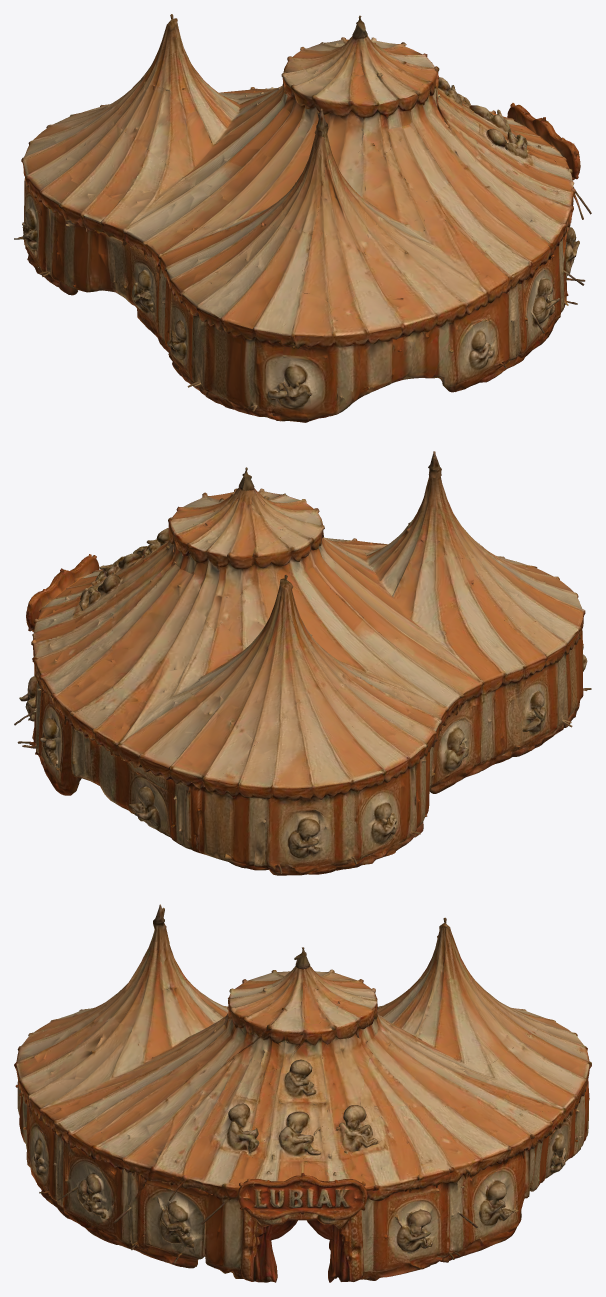
Rendered from circus.glb.
The picture shows the model from 3 angles, top to bottom: view 1: azimuth 30°, elevation 25°; view 2: azimuth 150°, elevation 25°; view 3: azimuth 270°, elevation 25°; orthographic projection. The views are drawn at different scales.
Visible parts, largest first — view 1: tripo_node_0bd29e1e-1604-4fbb-8d8a-6ffaf; view 2: tripo_node_0bd29e1e-1604-4fbb-8d8a-6ffaf; view 3: tripo_node_0bd29e1e-1604-4fbb-8d8a-6ffaf.
Boxes of the visible parts, x1=… form: tripo_node_0bd29e1e-1604-4fbb-8d8a-6ffaf: x1=14, y1=14, x2=591, y2=422; tripo_node_0bd29e1e-1604-4fbb-8d8a-6ffaf: x1=14, y1=451, x2=591, y2=875; tripo_node_0bd29e1e-1604-4fbb-8d8a-6ffaf: x1=14, y1=904, x2=591, y2=1282.
Size of the model in its own units: 0.8349 by 0.4875 by 1.
Materials: 1 (1 with a texture image).
